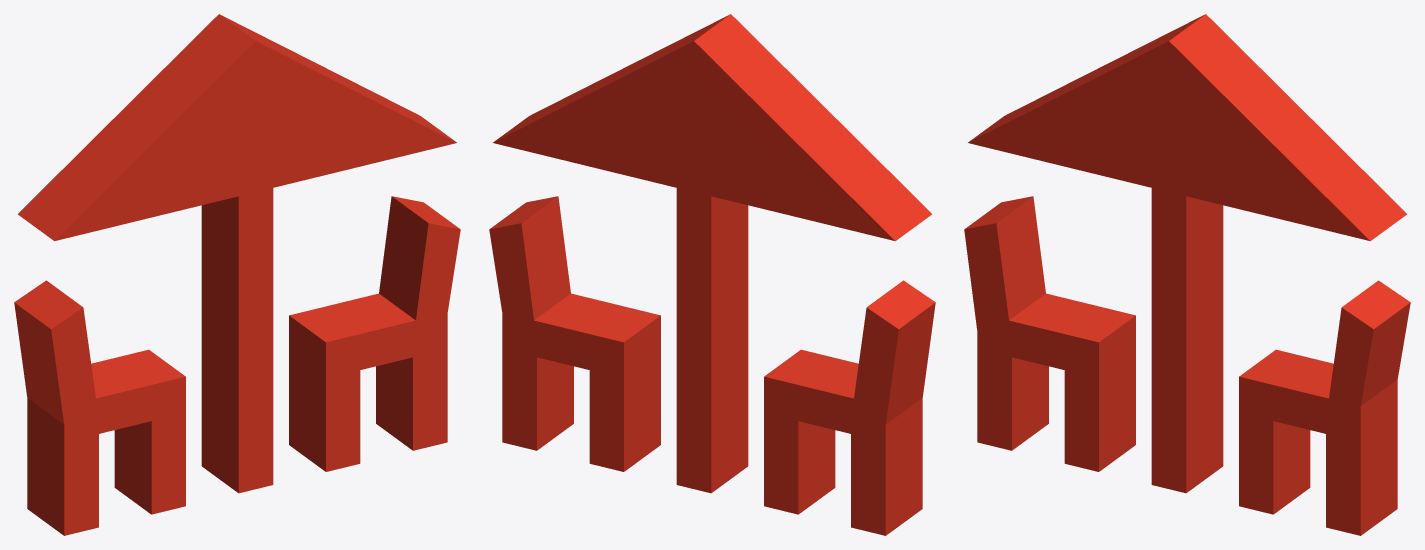
The model's file is Icon_PatioUmbrella.fbx.
The picture shows the model from 3 angles, left to right: view 1: azimuth 30°, elevation 25°; view 2: azimuth 150°, elevation 25°; view 3: azimuth 330°, elevation 25°; orthographic projection.
Parts seen in each view (by area): view 1: Icon_PatioUmbrella; view 2: Icon_PatioUmbrella; view 3: Icon_PatioUmbrella.
Part boxes in pixels (box(x1,y1,x2,y2)): Icon_PatioUmbrella: box(14, 14, 460, 535); Icon_PatioUmbrella: box(489, 14, 935, 535); Icon_PatioUmbrella: box(964, 14, 1410, 535).
Bounding box in the file's own units: 77.2 × 80.72 × 12.06.
